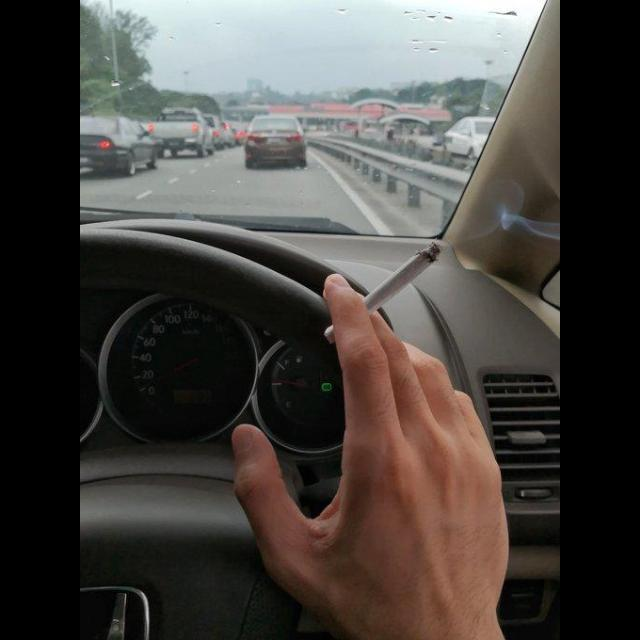rokok: (330, 240, 448, 336)
